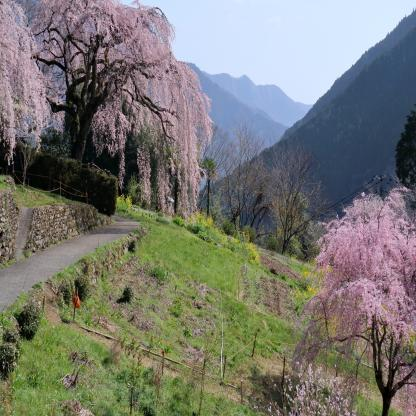ShidareZakura: (33, 0, 214, 226), (292, 184, 415, 416), (0, 0, 50, 167)
